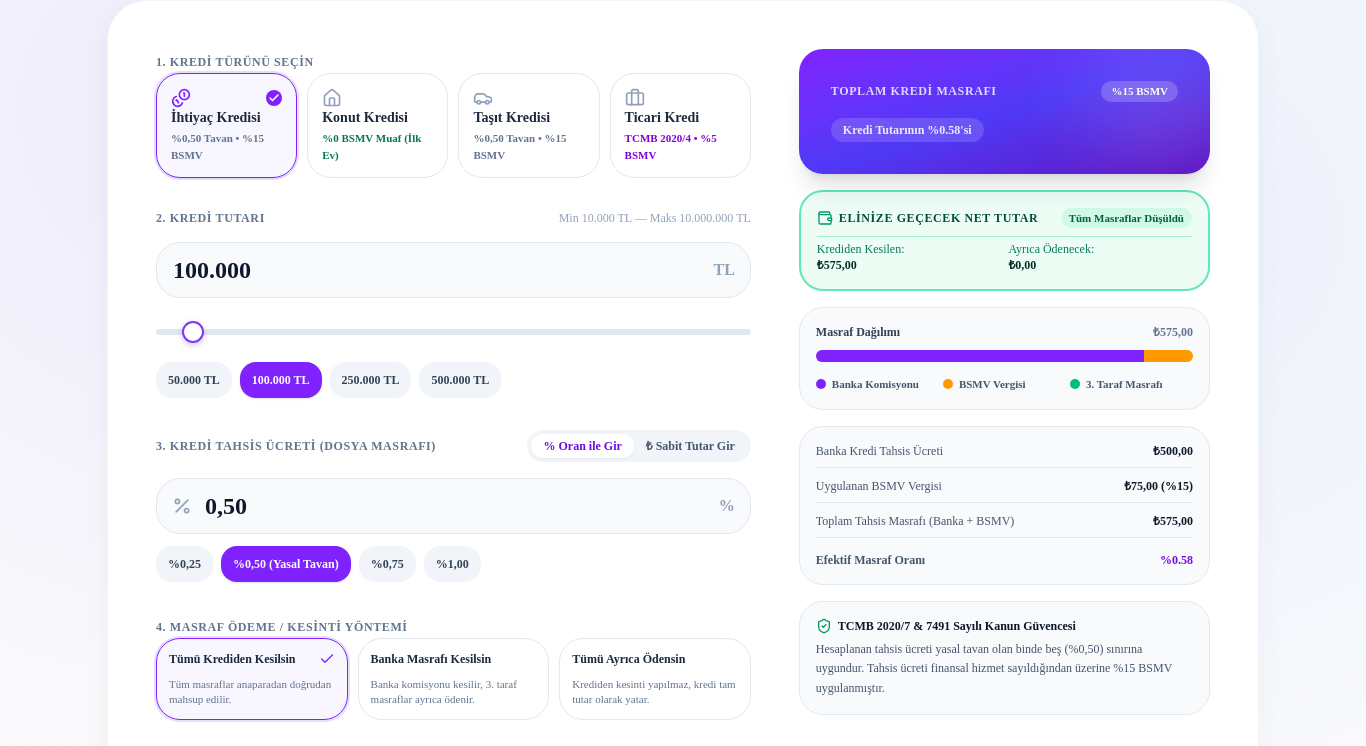
LoanFeeForm Component › displays free pricing notice when Döviz Cinsi Kredi is selected
Click the text "Ticari Kredi" at (662,118), box x1=625 y1=110 x2=699 y2=125
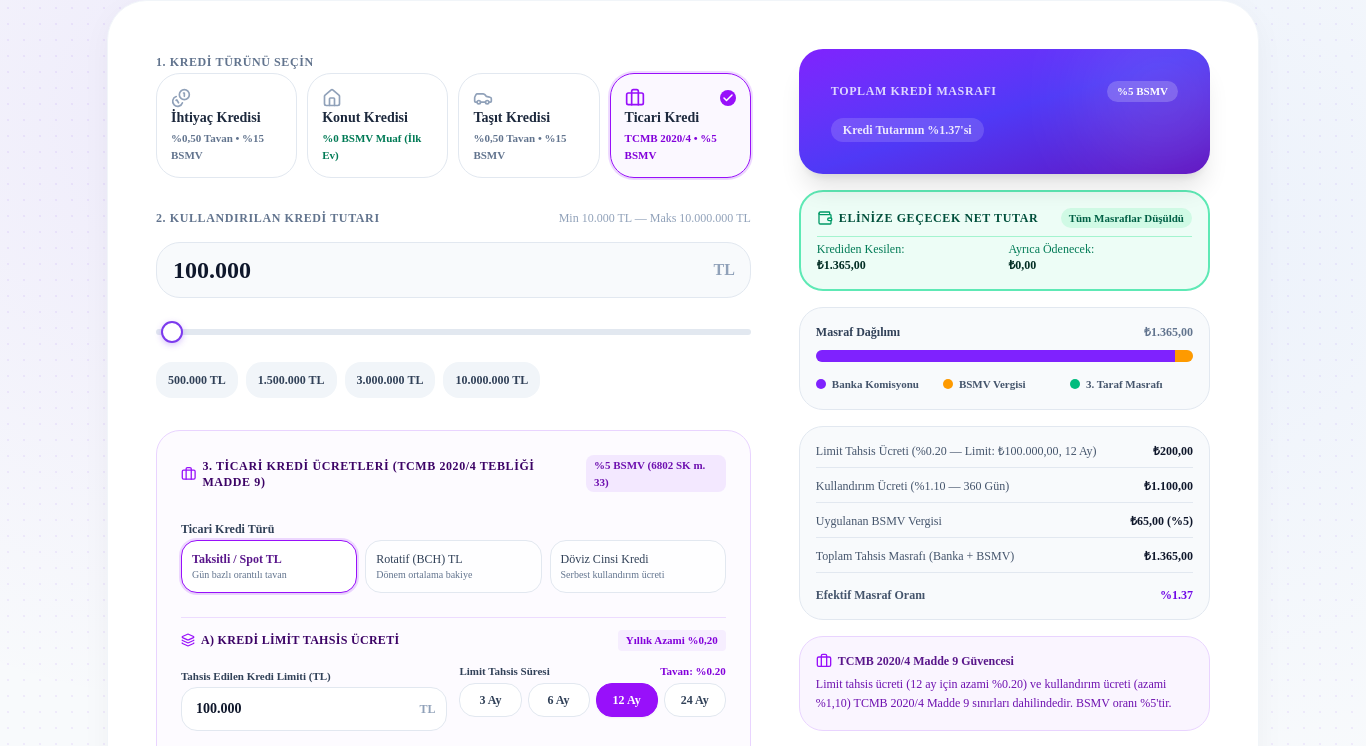
Click the text "Döviz Cinsi Kredi" at (604,559), box x1=560 y1=552 x2=648 y2=566
(page scrolled)
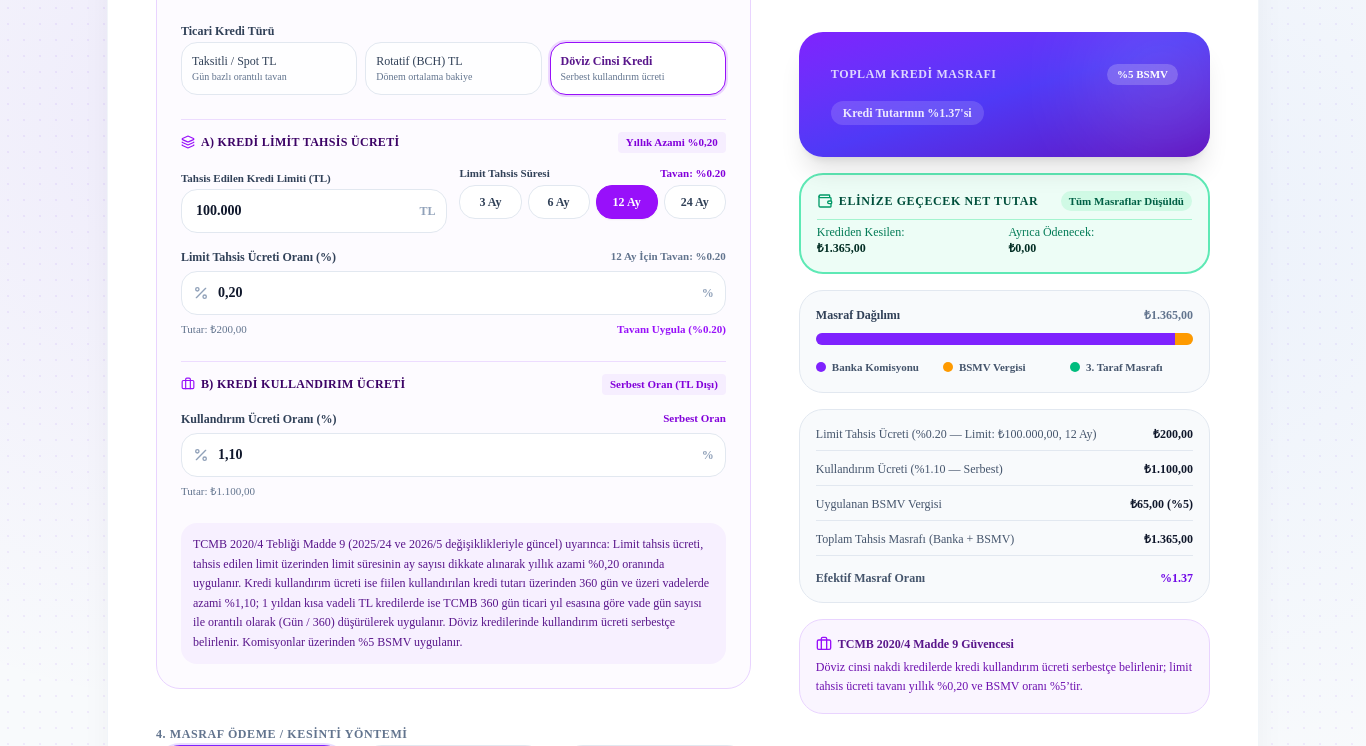
Now the text "Serbest Oran (TL Dışı)" is shown, box x1=602 y1=374 x2=726 y2=394
